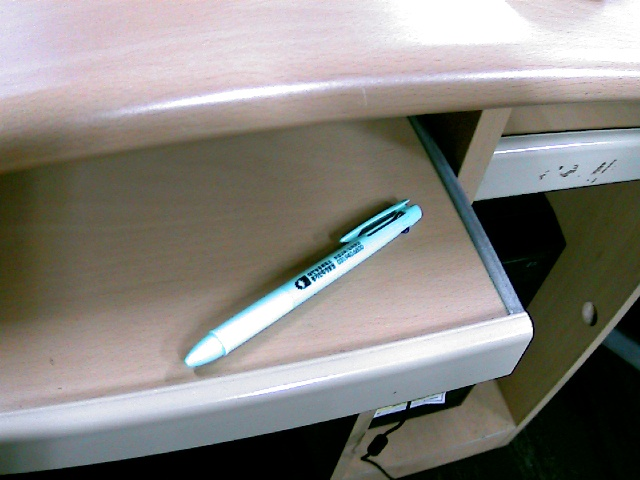pen: (170, 175, 435, 403)
